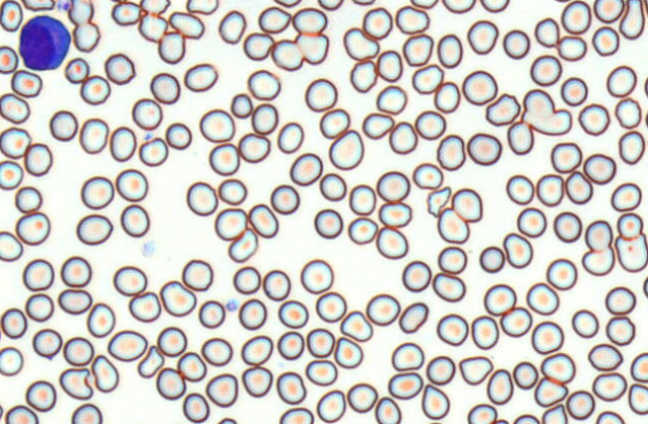LYM: (16, 13, 72, 75)
PLT: (56, 0, 72, 13), (227, 298, 241, 311)
RBC: (328, 129, 364, 170), (159, 280, 196, 317), (461, 69, 497, 105), (107, 329, 147, 361), (615, 233, 647, 272), (199, 108, 235, 142), (485, 92, 520, 126), (15, 211, 50, 245), (343, 27, 379, 60), (300, 258, 333, 294), (80, 175, 114, 209), (304, 77, 337, 112), (365, 293, 400, 326), (466, 132, 501, 165), (437, 207, 469, 243), (76, 213, 112, 245), (289, 152, 322, 186), (531, 320, 564, 354), (205, 373, 238, 407), (186, 181, 218, 216), (466, 19, 498, 54), (540, 352, 575, 384), (214, 207, 247, 240), (115, 168, 148, 201), (526, 282, 559, 315), (577, 102, 610, 135), (376, 170, 410, 202), (247, 203, 278, 238), (451, 187, 482, 222), (502, 232, 532, 268), (79, 117, 108, 154), (483, 283, 516, 315), (295, 32, 328, 64), (529, 54, 562, 86), (22, 258, 54, 291), (208, 142, 240, 175), (376, 226, 408, 259), (436, 313, 468, 346), (181, 258, 213, 291), (113, 265, 147, 296), (247, 69, 281, 100), (560, 0, 591, 34), (606, 64, 637, 98), (183, 62, 218, 92), (592, 371, 627, 401), (436, 134, 465, 170), (271, 38, 303, 70), (550, 141, 582, 173), (499, 306, 532, 337), (0, 126, 31, 159), (155, 367, 186, 400), (128, 291, 161, 322), (131, 97, 162, 130), (583, 153, 616, 184), (534, 376, 567, 407), (402, 33, 433, 66), (546, 257, 577, 290), (240, 334, 273, 365), (86, 302, 115, 337), (168, 11, 204, 39), (387, 371, 423, 399), (587, 343, 623, 371), (421, 383, 449, 419), (411, 63, 443, 94), (319, 107, 350, 139), (25, 380, 56, 412), (60, 255, 91, 287), (241, 365, 272, 397), (238, 132, 270, 163), (104, 52, 135, 84), (149, 72, 180, 104), (362, 6, 392, 39), (432, 272, 465, 302), (276, 371, 306, 404), (316, 389, 346, 422), (391, 341, 424, 371), (120, 203, 149, 237), (395, 5, 429, 34), (292, 7, 327, 35), (218, 9, 246, 44), (486, 368, 513, 404), (315, 291, 346, 322), (376, 84, 407, 115), (346, 382, 377, 413), (0, 92, 30, 124), (414, 110, 446, 140), (401, 260, 431, 292), (610, 182, 642, 212), (388, 121, 417, 154), (24, 142, 52, 176), (565, 170, 593, 204), (471, 315, 499, 349), (109, 126, 136, 161), (565, 389, 595, 420), (63, 336, 94, 366), (156, 326, 187, 356), (49, 109, 78, 141), (584, 219, 613, 251), (238, 298, 267, 330), (604, 286, 636, 315), (506, 121, 534, 154), (157, 31, 185, 64), (536, 173, 564, 206), (349, 59, 377, 92), (258, 5, 291, 33), (618, 130, 645, 164), (57, 288, 92, 314), (436, 33, 462, 68), (138, 136, 168, 166), (80, 74, 110, 104), (32, 328, 62, 358), (313, 208, 343, 238), (270, 184, 300, 214), (516, 207, 546, 237), (425, 355, 455, 385), (605, 315, 635, 345), (243, 31, 274, 60), (505, 174, 534, 205), (553, 211, 582, 242), (277, 299, 308, 328), (201, 337, 232, 366), (262, 269, 291, 300), (10, 69, 42, 97), (348, 183, 376, 215), (276, 121, 304, 153), (376, 49, 403, 82), (378, 201, 412, 227), (138, 12, 167, 42), (177, 351, 206, 381), (437, 245, 467, 274), (72, 21, 100, 52), (347, 216, 378, 244), (591, 25, 619, 56), (305, 359, 337, 386), (362, 112, 394, 139), (433, 81, 460, 113), (251, 102, 278, 134), (614, 97, 641, 129), (232, 265, 261, 294), (560, 76, 588, 106), (502, 29, 530, 59), (306, 327, 334, 357), (571, 308, 599, 338), (276, 330, 304, 360), (412, 162, 443, 189), (0, 307, 27, 338), (182, 392, 209, 423), (25, 293, 54, 321), (556, 34, 586, 61), (217, 178, 247, 205), (14, 185, 42, 213), (319, 172, 346, 201), (198, 299, 225, 328), (110, 0, 141, 25), (616, 212, 643, 240), (534, 17, 559, 47), (165, 122, 192, 149), (374, 396, 401, 423), (479, 245, 505, 273), (512, 361, 538, 389), (0, 159, 23, 190), (0, 230, 23, 261), (0, 0, 23, 31), (0, 346, 23, 376), (593, 0, 623, 23), (67, 0, 93, 25), (64, 57, 89, 83), (5, 404, 38, 423), (71, 403, 102, 423), (628, 383, 647, 415), (467, 403, 497, 423), (230, 92, 253, 118), (279, 407, 313, 423), (541, 403, 567, 423), (630, 352, 647, 382), (0, 45, 18, 73), (186, 0, 218, 14), (442, 0, 475, 13), (140, 0, 170, 14), (595, 410, 624, 423), (480, 0, 509, 12), (512, 413, 539, 423), (317, 0, 343, 10), (410, 0, 438, 9), (273, 0, 301, 7), (216, 417, 237, 423), (351, 0, 375, 5), (643, 75, 648, 98), (642, 275, 647, 298), (492, 418, 509, 423), (645, 110, 648, 128), (0, 404, 3, 421)
Schistocyte: (522, 107, 573, 138), (337, 311, 376, 346), (619, 0, 648, 43), (58, 368, 95, 401), (90, 355, 121, 394), (456, 356, 495, 386), (522, 89, 557, 121), (333, 336, 366, 369), (398, 301, 430, 335), (136, 344, 164, 379), (425, 185, 454, 218)
